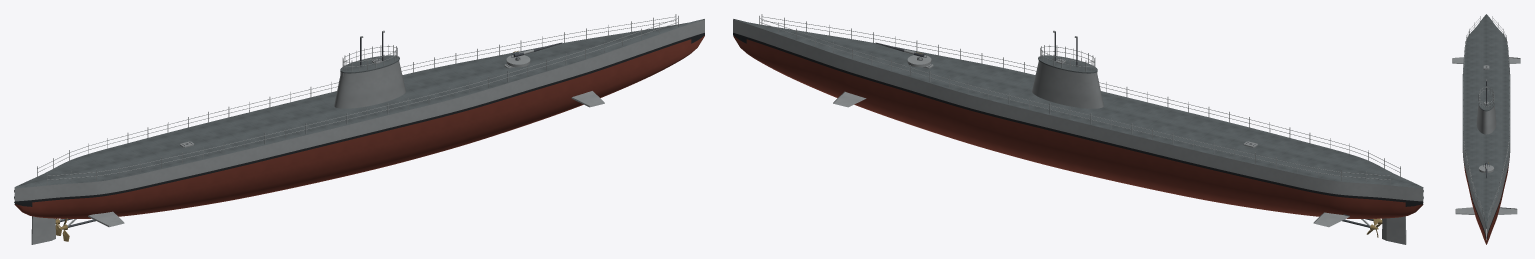
File: s_class_ss_usn.glb
The picture shows the model from 3 angles, left to right: view 1: azimuth 30°, elevation 25°; view 2: azimuth 150°, elevation 25°; view 3: azimuth 270°, elevation 25°; orthographic projection. The views are drawn at different scales.
Parts seen in each view (by area): view 1: S-boat class; view 2: S-boat class; view 3: S-boat class.
Boxes of the visible parts, x1,y1,x2,y2 form: S-boat class: [14, 14, 704, 244]; S-boat class: [733, 14, 1423, 244]; S-boat class: [1452, 14, 1520, 244].
Size of the model in its own units: 66.83 by 12.21 by 8.99.
Materials: 6 (6 with a texture image).
